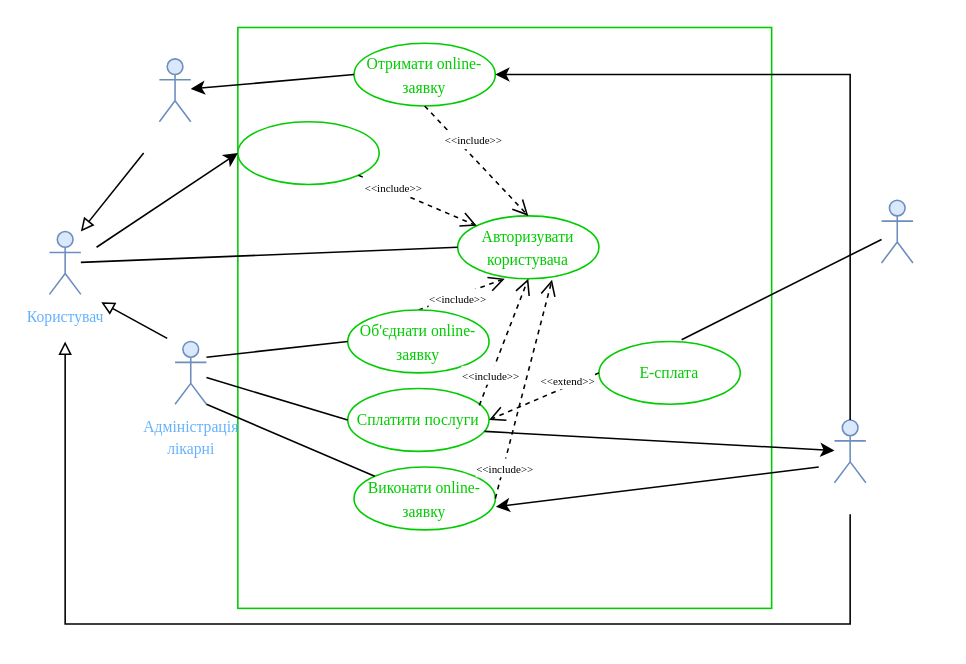
Some shapes in this 966 by 664 pixel diagram are drawn without their labels. The centre of each missing label's shape, as x and y in pixels:
Лікарі: the point at 174,89
сервіс E-Pay: the point at 896,231
співробітник лікарні: the point at 849,450
Створити online-заявку: the point at 307,152
